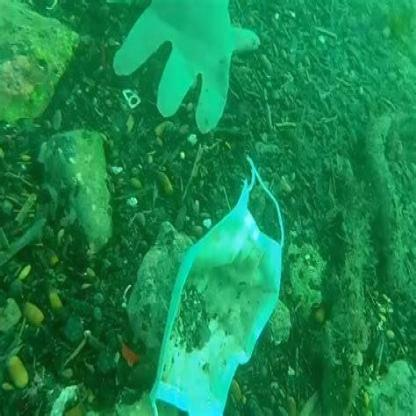Mask: (154, 153, 292, 415)
glove: (110, 0, 260, 139)
